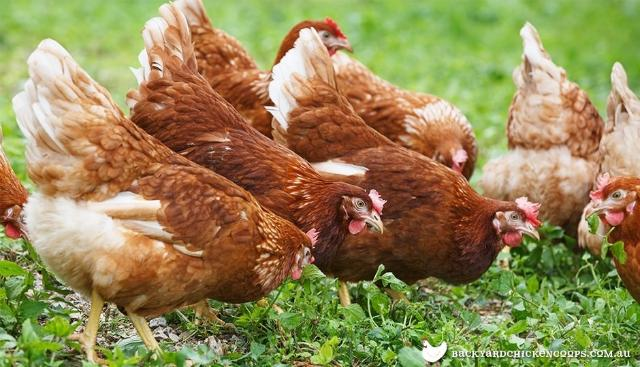Chicken: (12, 36, 320, 367), (268, 27, 540, 284), (126, 1, 386, 252), (174, 1, 354, 142), (328, 50, 477, 183), (509, 24, 604, 162), (587, 172, 640, 306)
